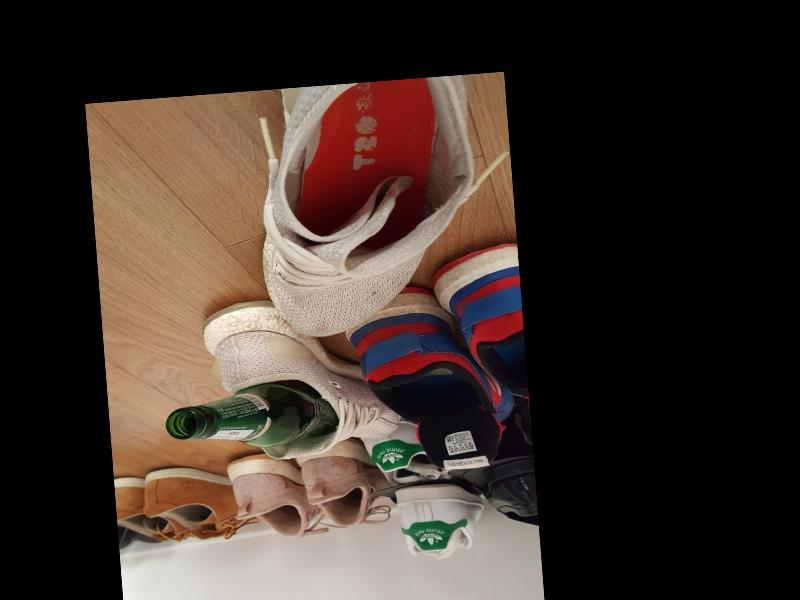Beer: (163, 377, 339, 452)
